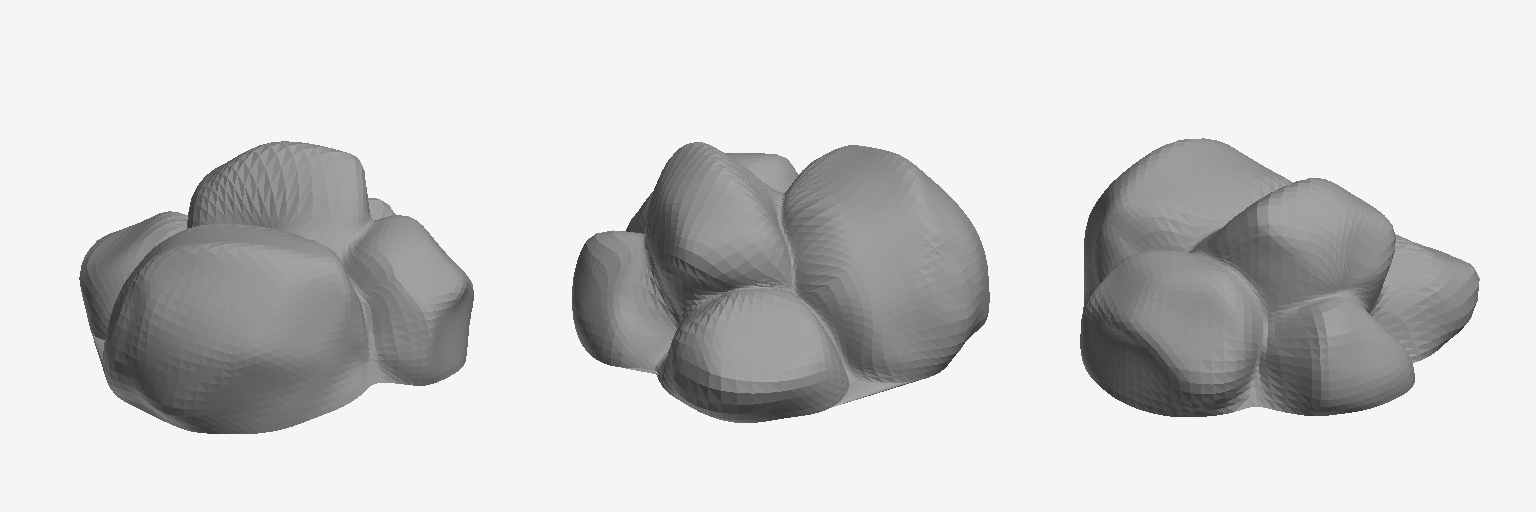
Rendered from Rock1.obj.
3 renders of one model, left to right at view 1: azimuth 30°, elevation 25°; view 2: azimuth 150°, elevation 25°; view 3: azimuth 270°, elevation 25°, orthographic.
Visible parts, largest first — view 1: Cube; view 2: Cube; view 3: Cube.
Part boxes in pixels (x1,y1,x2,y2): Cube: (79, 141, 473, 433); Cube: (572, 142, 989, 422); Cube: (1080, 138, 1479, 416).
Bounding box in the file's own units: 10.3 × 5.29 × 10.24.